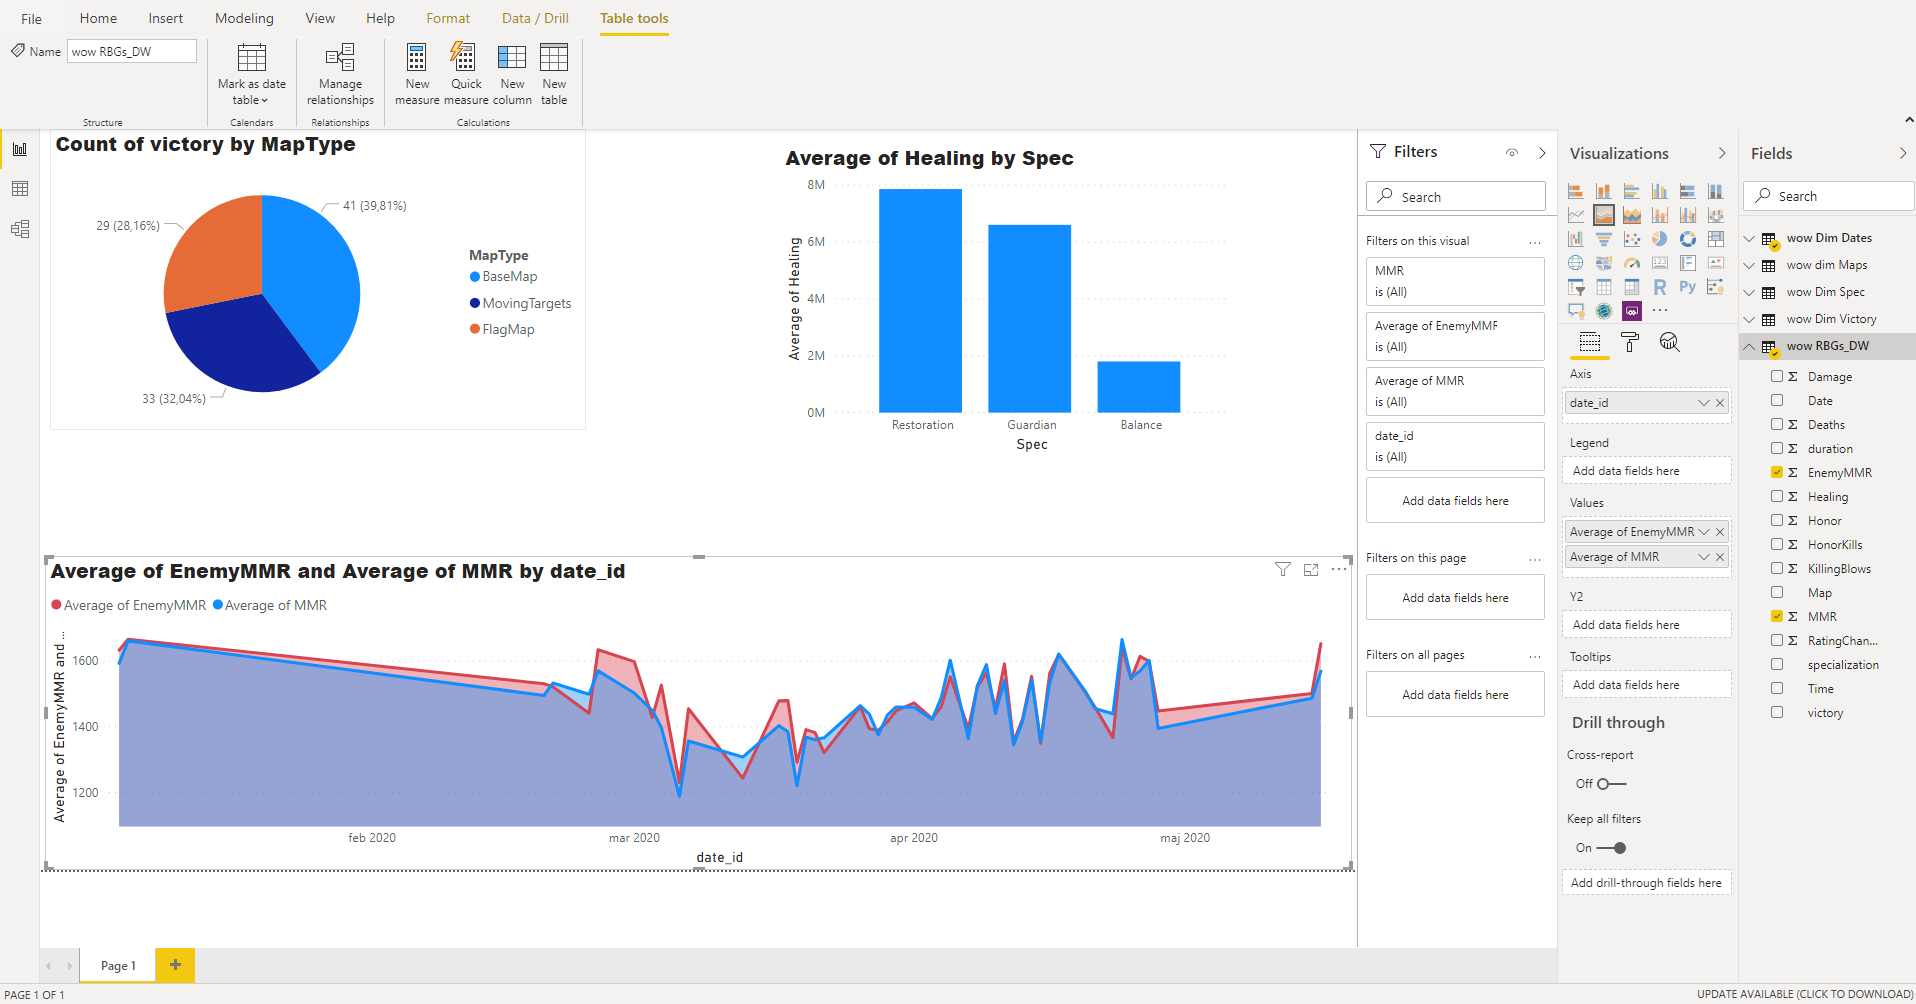

What the dashboard file says about the page in this screenshot:
{"tool":"powerbi","page":{"name":"Page 1","canvas":[1280,720],"ordinal":0},"visuals":[{"type":"pieChart","fields":{"Category":["wow dim Maps.MapTypes.MapType","wow Dim Victory.Victory"],"Y":["CountNonNull(wow RBGs_DW.victory)"]},"box":[9.7,0,520.9,292.5],"z":0},{"type":"clusteredColumnChart","fields":{"Y":["Avg(wow RBGs_DW.Healing)"],"Category":["wow Dim Spec.SpecHiearchy.Spec"]},"box":[719.2,13.6,441.2,305.2],"z":1000},{"type":"areaChart","fields":{"Category":["wow Dim Dates.date_id"],"Y":["Avg(wow RBGs_DW.EnemyMMR)","Avg(wow RBGs_DW.MMR)"]},"box":[4.9,415,1270.3,305.2],"z":2000}]}

Visuals, with their boxes on the page's 1280x720 design canvas (x1, y1, x2, y2). These are canvas units, not pixel positions in the 1916x1004 screenshot, which may show the page scaled, cropped or inside an application window:
pieChart - wow dim Maps.MapTypes.MapType x wow Dim Victory.Victory: x1=10 y1=0 x2=531 y2=292
clusteredColumnChart - Avg(wow RBGs_DW.Healing) x wow Dim Spec.SpecHiearchy.Spec: x1=719 y1=14 x2=1160 y2=319
areaChart - wow Dim Dates.date_id x Avg(wow RBGs_DW.EnemyMMR): x1=5 y1=415 x2=1275 y2=720
